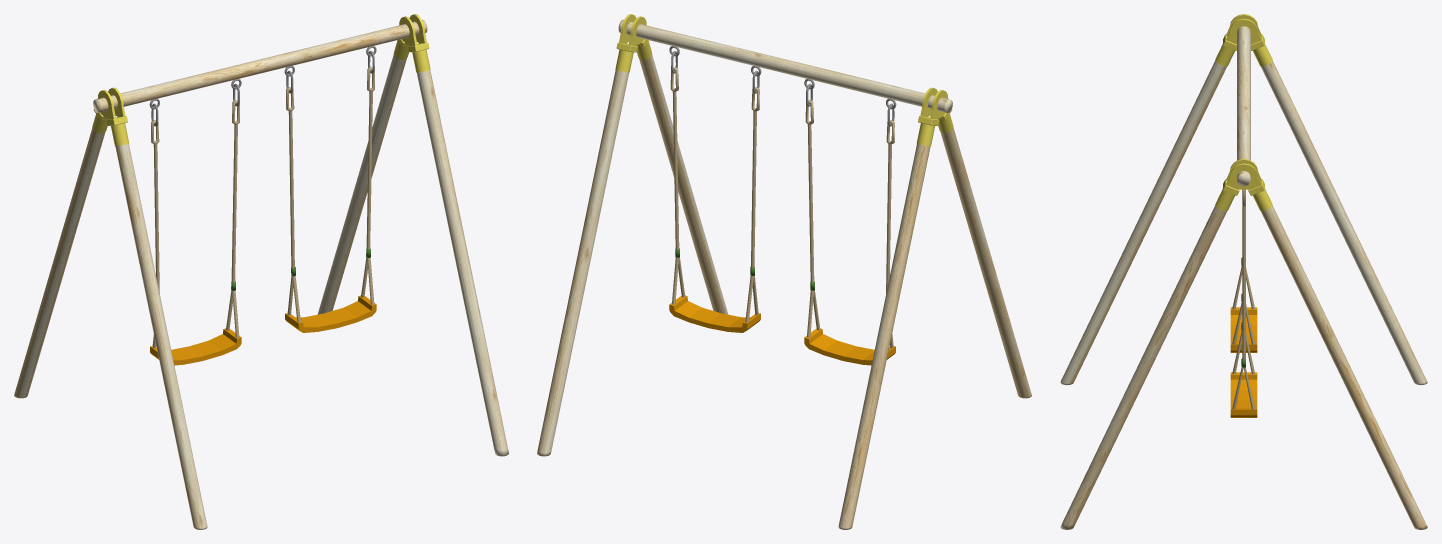
Rendered from swing.glb.
3 views of the same model, side by side, from view 1: azimuth 30°, elevation 25°; view 2: azimuth 150°, elevation 25°; view 3: azimuth 270°, elevation 25° (orthographic).
Parts seen in each view (by area): view 1: Object_6, Object_5, Object_4, Object_7, Object_3; view 2: Object_6, Object_5, Object_4, Object_7, Object_3; view 3: Object_6, Object_7, Object_4, Object_5.
Part boxes in pixels (x1,y1,x2,y2): Object_6: [14, 19, 508, 529]; Object_5: [151, 67, 374, 348]; Object_4: [150, 295, 376, 365]; Object_7: [92, 14, 430, 146]; Object_3: [149, 46, 376, 126]; Object_6: [537, 19, 1031, 529]; Object_5: [670, 67, 894, 347]; Object_4: [669, 295, 895, 365]; Object_7: [615, 14, 953, 146]; Object_3: [669, 46, 896, 126]; Object_6: [1060, 26, 1427, 529]; Object_7: [1215, 14, 1272, 211]; Object_4: [1230, 307, 1257, 417]; Object_5: [1232, 190, 1254, 409].
Bounding box in the file's own units: 9.1 × 9.86 × 8.99.
6 materials, 1 textured.
